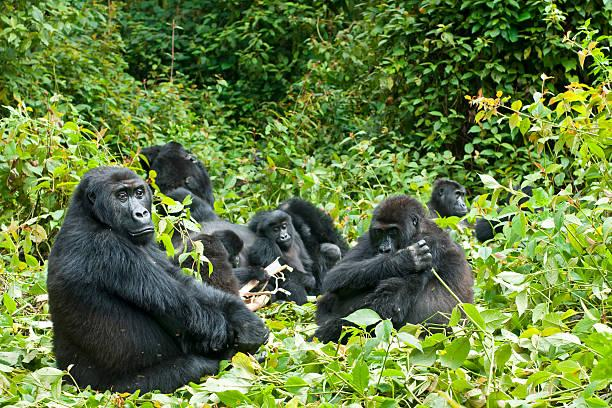goriile_montagne: (49, 160, 265, 390), (322, 166, 490, 358), (244, 185, 317, 304), (436, 156, 526, 246)
